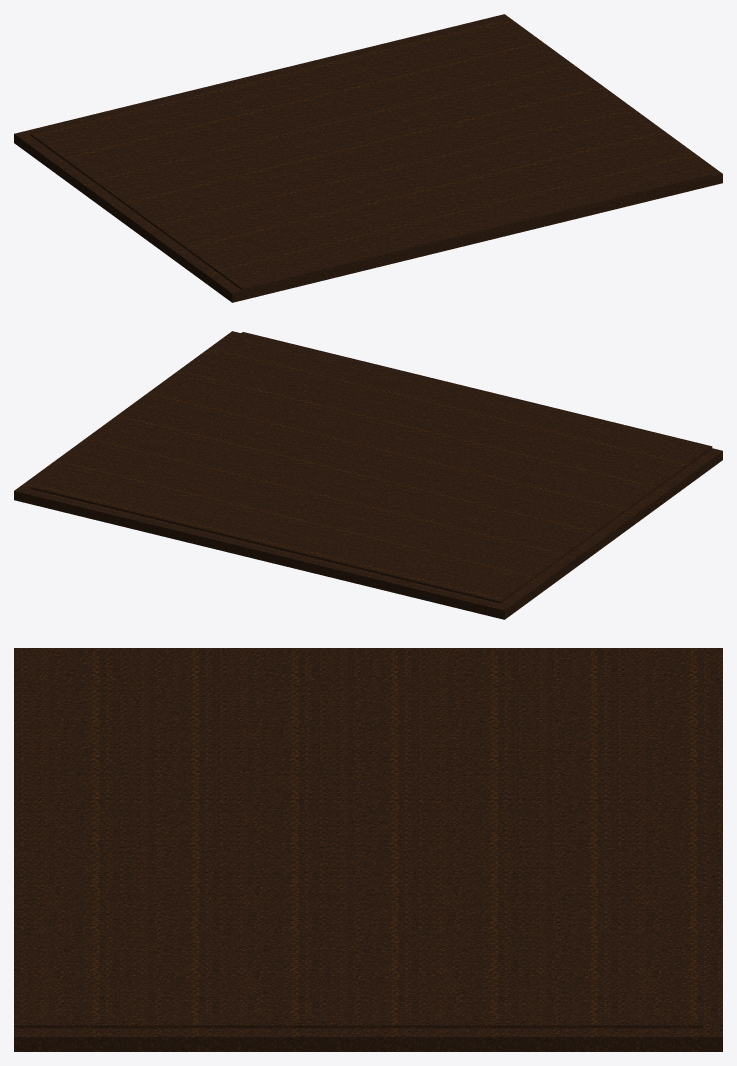
File: floor.glb
The picture shows the model from 3 angles, top to bottom: view 1: azimuth 30°, elevation 25°; view 2: azimuth 150°, elevation 25°; view 3: azimuth 270°, elevation 25°; orthographic projection. The views are drawn at different scales.
Visible parts, largest first — view 1: mickeys_floor; view 2: mickeys_floor; view 3: mickeys_floor.
Part boxes in pixels (x1,y1,x2,y2): mickeys_floor: (14, 14, 722, 302); mickeys_floor: (14, 331, 722, 619); mickeys_floor: (14, 648, 722, 1051).
Size of the model in its own units: 5.54 by 0.12 by 4.27.
1 material, 1 textured.
